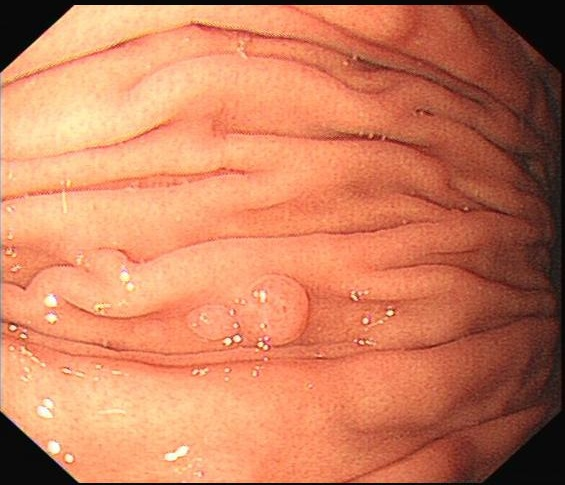Polyp: (245, 275, 309, 349)
